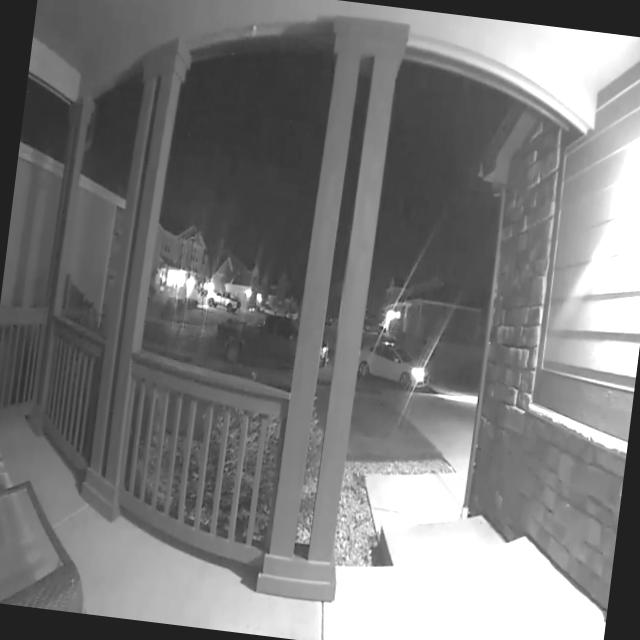car: (211, 299, 336, 386), (354, 327, 446, 404), (195, 285, 246, 316)
